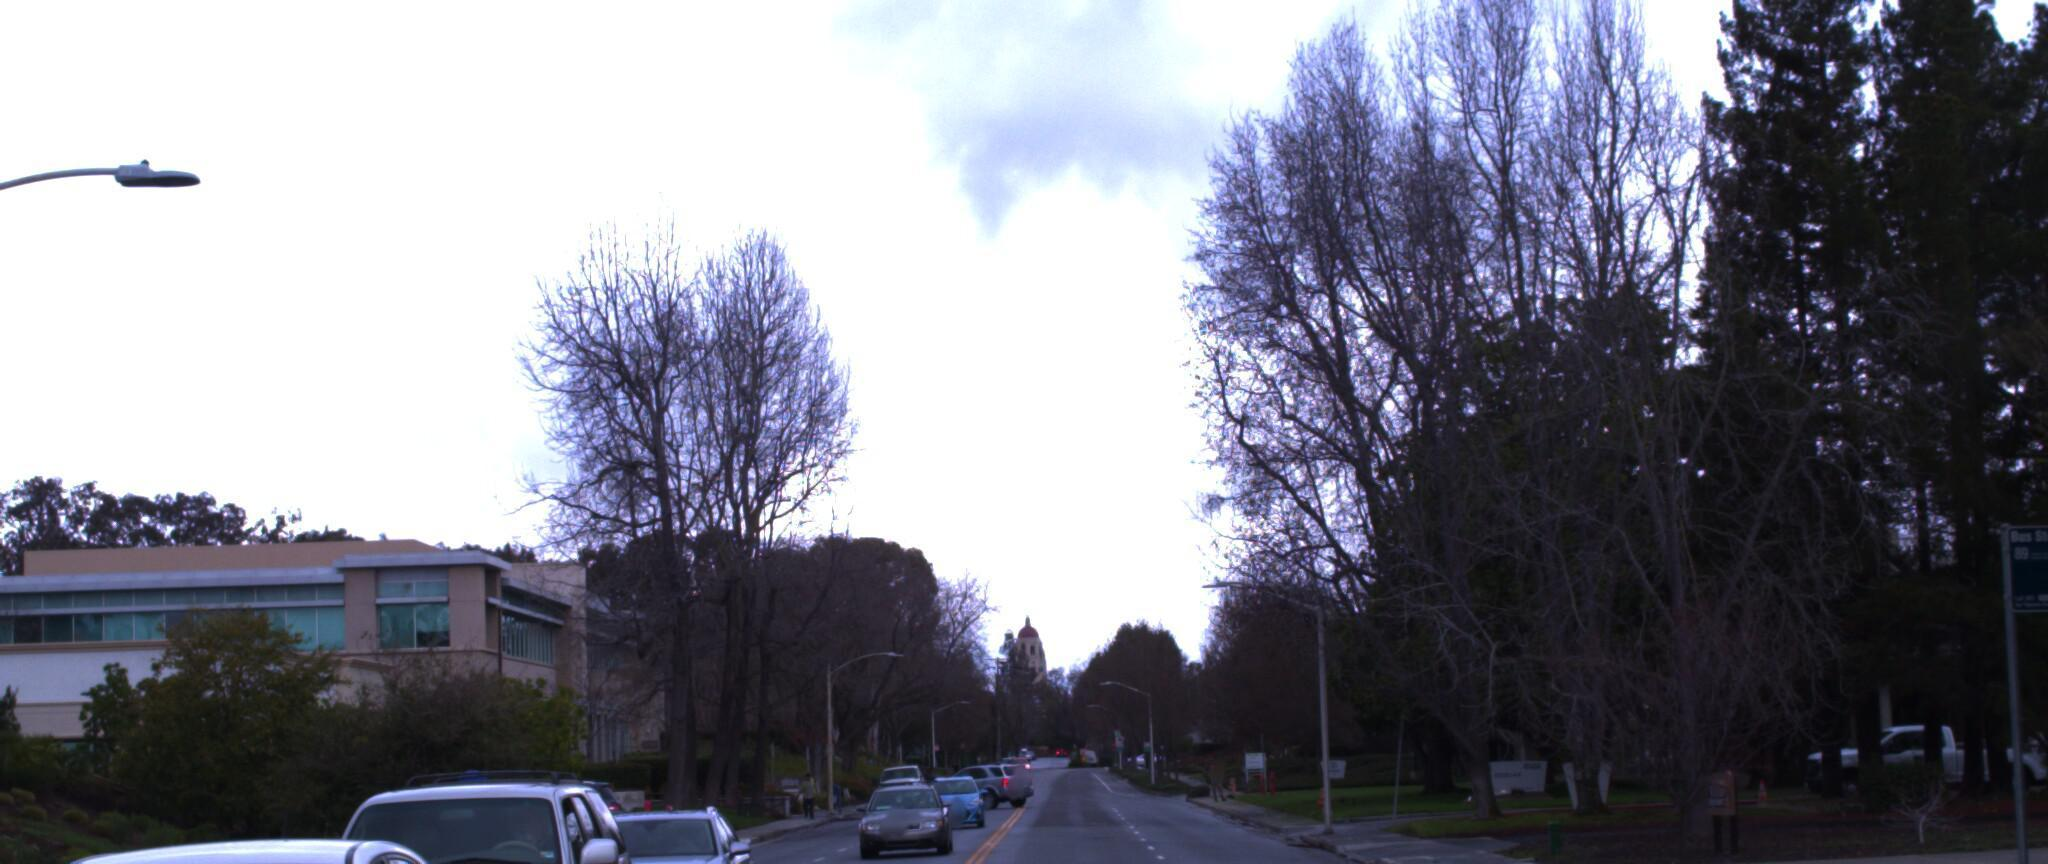car: (191, 747, 666, 864), (0, 797, 520, 864), (521, 783, 772, 864), (1785, 713, 2004, 788), (852, 766, 944, 848)
